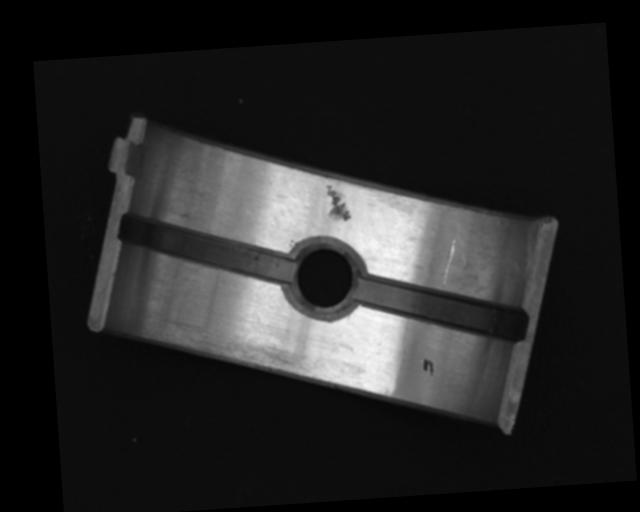blot: (421, 357, 435, 377)
bruise: (323, 181, 351, 223)
gap: (119, 203, 295, 293), (356, 267, 527, 350)
hole: (285, 237, 363, 321)
nick: (439, 237, 460, 287)
scratch: (153, 307, 311, 389)
